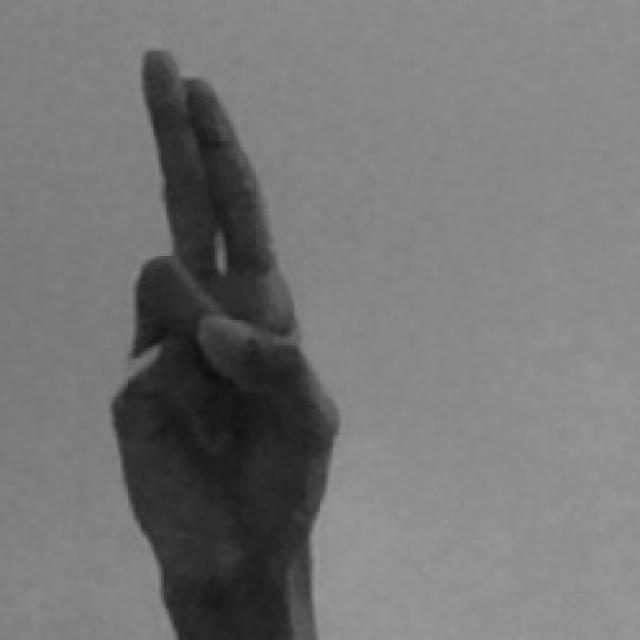U: (102, 43, 353, 640)
